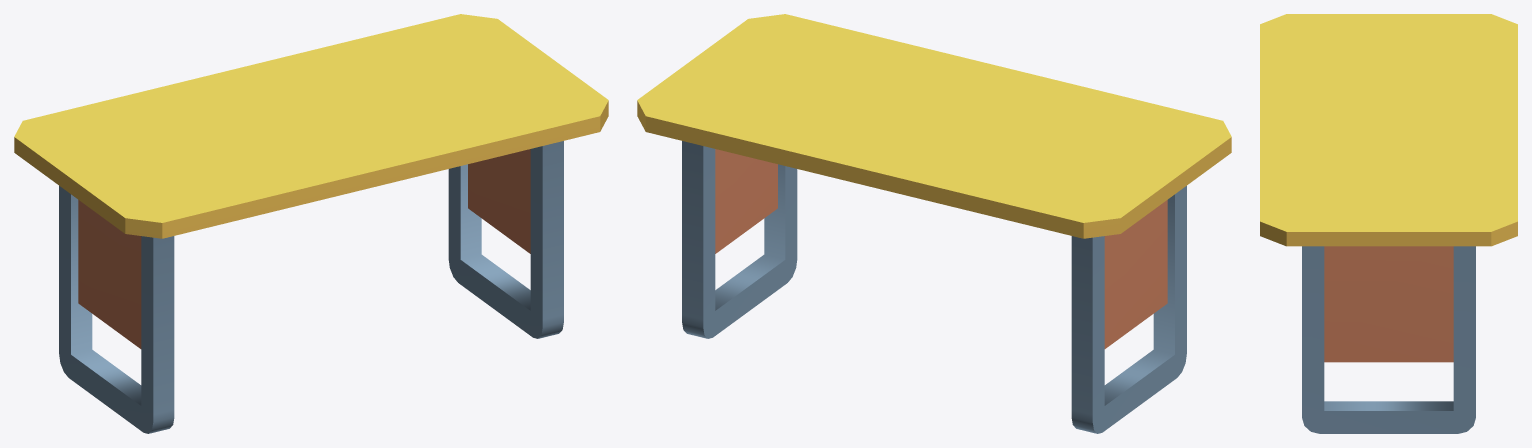
File: table.fbx
3 renders of one model, left to right at view 1: azimuth 30°, elevation 25°; view 2: azimuth 150°, elevation 25°; view 3: azimuth 270°, elevation 25°, orthographic. The views are drawn at different scales.
Visible parts, largest first — view 1: table; view 2: table; view 3: table.
Boxes of the visible parts, x1,y1,x2,y2 form: table: [14, 14, 608, 433]; table: [637, 14, 1231, 433]; table: [1260, 14, 1517, 433].
Bounding box in the file's own units: 13.39 × 6.27 × 6.7.
